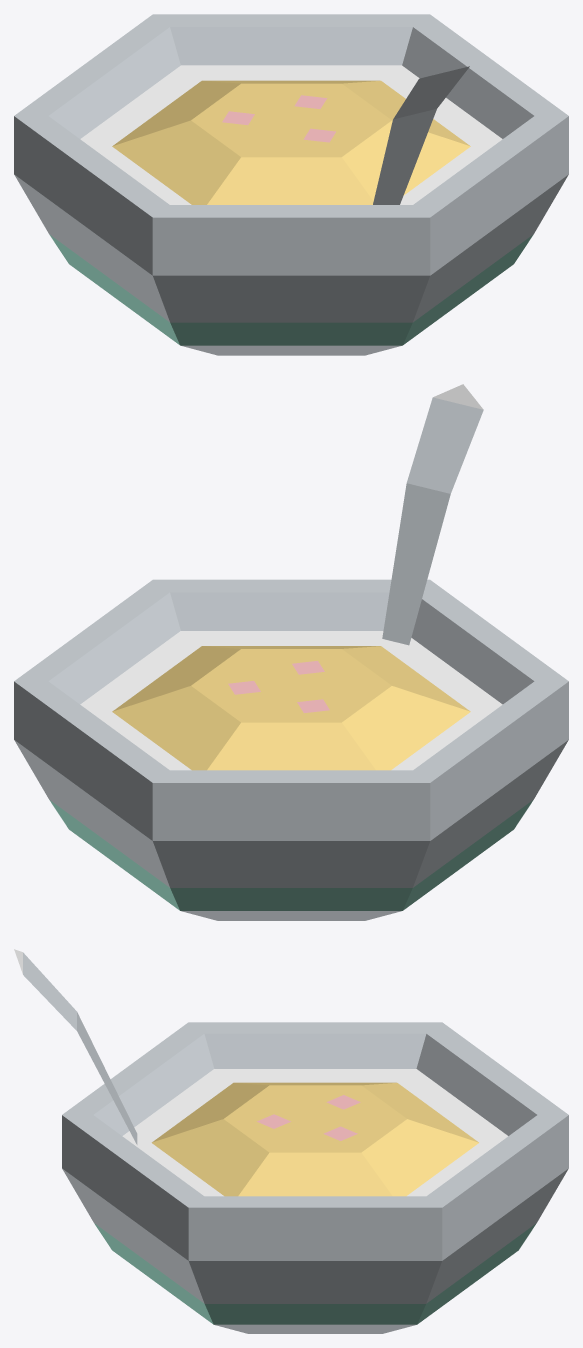
Rendered from bowlCereal.glb.
3 views of the same model, one above another, from view 1: azimuth 30°, elevation 25°; view 2: azimuth 150°, elevation 25°; view 3: azimuth 270°, elevation 25° (orthographic). The views are drawn at different scales.
Parts seen in each view (by area): view 1: bowlCereal; view 2: bowlCereal; view 3: bowlCereal.
Part boxes in pixels (x1=…): bowlCereal: x1=14, y1=14, x2=568, y2=355; bowlCereal: x1=14, y1=384, x2=568, y2=920; bowlCereal: x1=14, y1=949, x2=568, y2=1333.
Bounding box in the file's own units: 0.5022 × 0.4193 × 0.6346.
